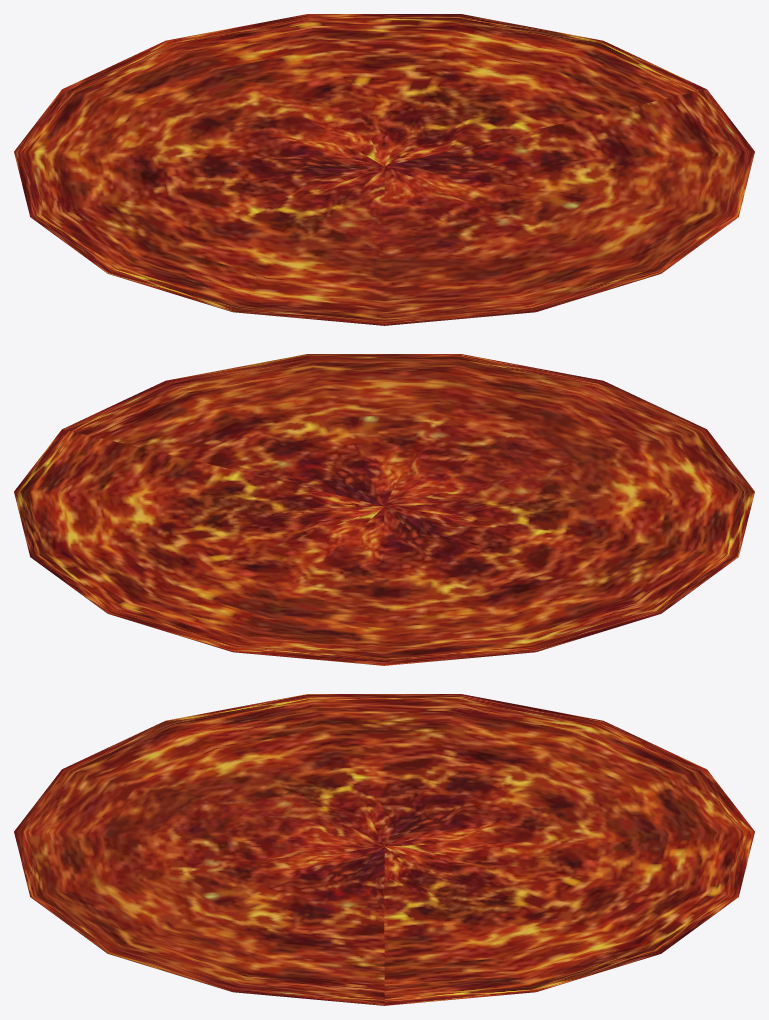
Rendered from yanjiang02.FBX.
The picture shows the model from 3 angles, top to bottom: view 1: azimuth 30°, elevation 25°; view 2: azimuth 150°, elevation 25°; view 3: azimuth 270°, elevation 25°; orthographic projection.
Parts seen in each view (by area): view 1: Object002; view 2: Object002; view 3: Object002.
Part boxes in pixels (left/top/right/bottom): Object002: left=14, top=14, right=754, bottom=325; Object002: left=14, top=354, right=754, bottom=665; Object002: left=14, top=694, right=754, bottom=1005.
Bounding box in the file's own units: 1967 × 10 × 1978.
